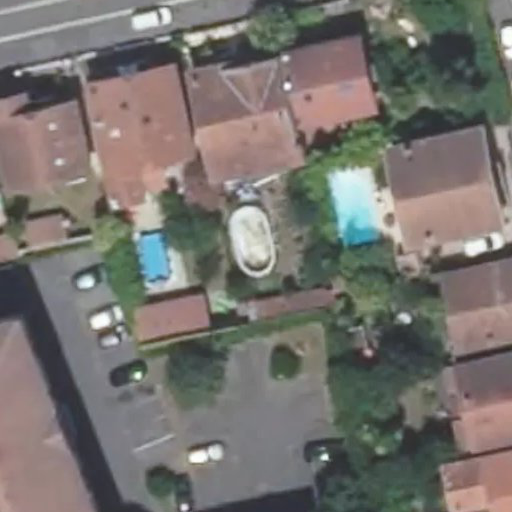pool: (231, 219, 278, 266)
